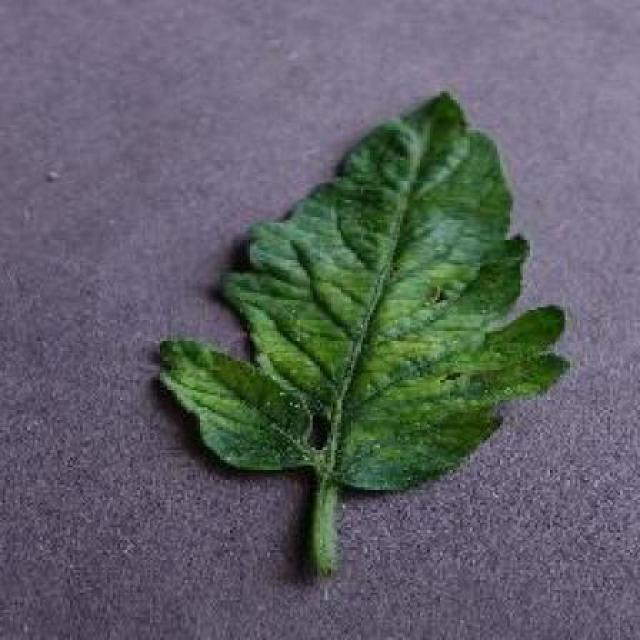Mosaic Virus: (148, 88, 572, 492)
